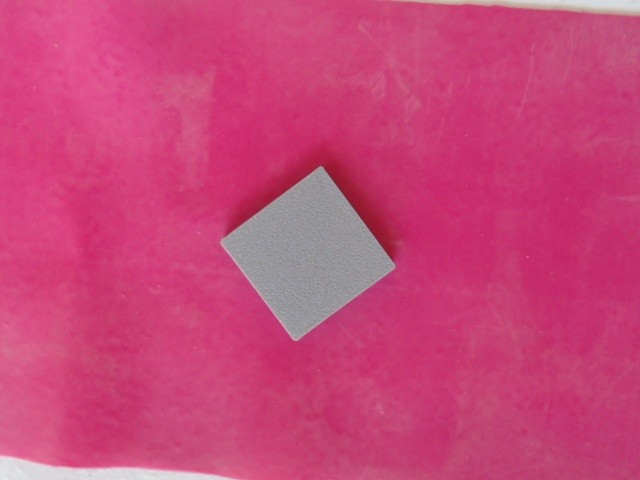Defective: (214, 164, 404, 349)
